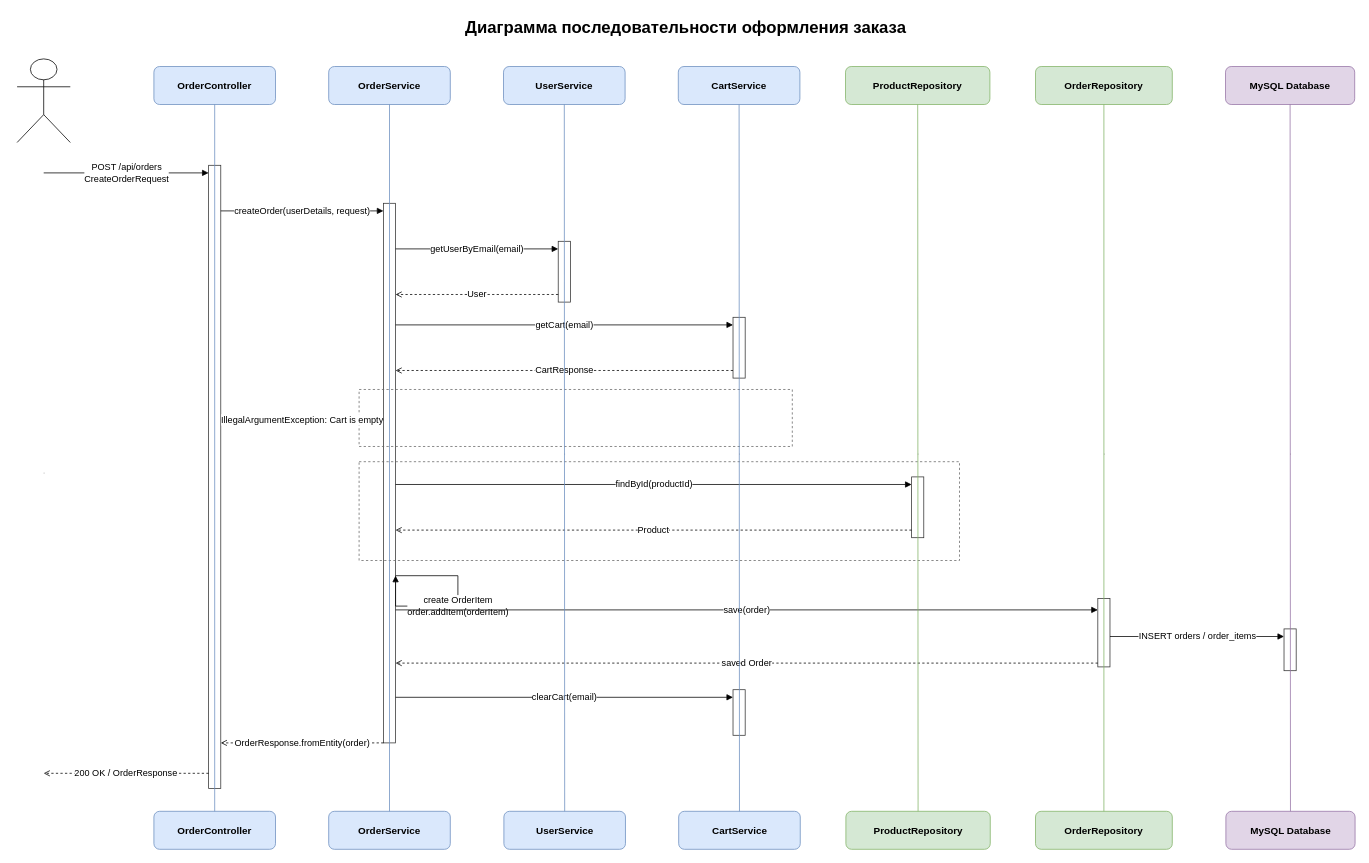
Image size: 1369x863. Some labels were removed from this diagram. Each missing label, with the box of its shape:
alt [корзина пуста]: (358, 389, 792, 446)
Client Web / Android: (16, 58, 70, 142)
loop [для каждого CartItem]: (358, 461, 960, 560)
